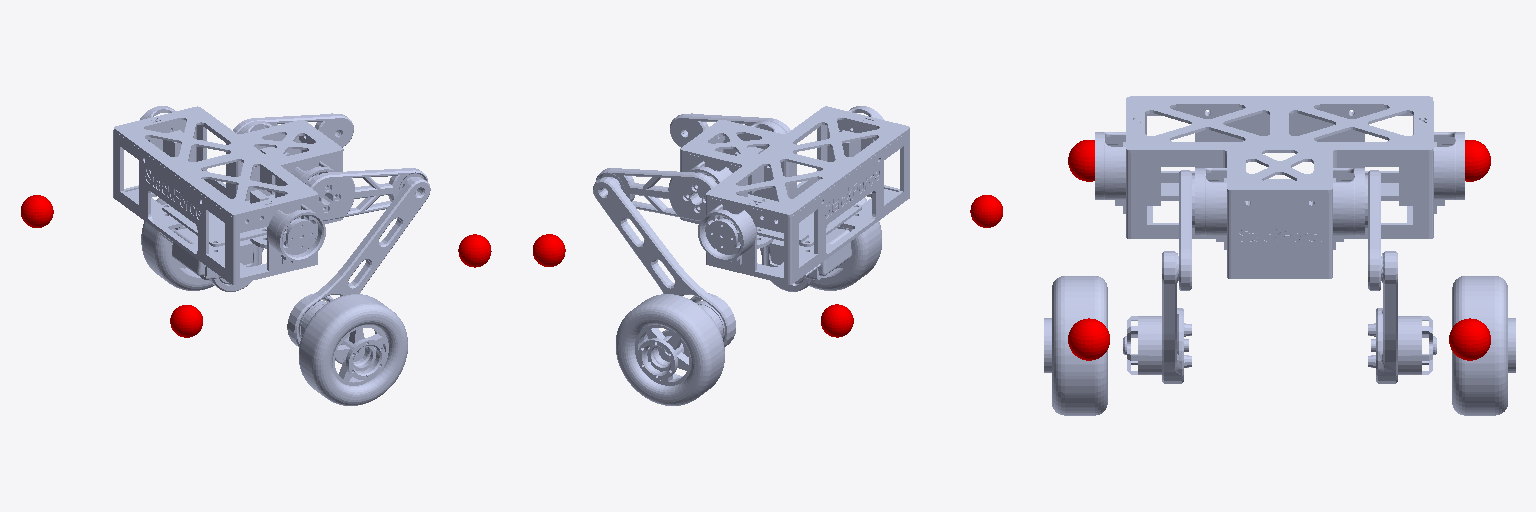
URDF robot description (sf):
<?xml version="1.0" encoding="utf-8"?>
<!-- This URDF was automatically created by SolidWorks to URDF Exporter! Originally created by Stephen Brawner (brawner@gmail.com) 
     Commit Version: 1.6.0-4-g7f85cfe  Build Version: 1.6.7995.38578
     For more information, please see http://wiki.ros.org/sw_urdf_exporter -->
<robot
  name="sf">
  <link
    name="base_link">
    <inertial>
      <origin
        xyz="0.0061304 0.0002476 -0.0093676"
        rpy="0 0 0" />
      <mass
        value="0.2660000" />  # 原版质量0.266
      <inertia
        ixx="0.0006309"
        ixy="0.0000006"
        ixz="-0.0000468"
        iyy="0.0003008"
        iyz="0.0000003"
        izz="0.0007489" />
      <!--<mass
        value="0.2660000" />
      <inertia
        ixx="0.001100"
        ixy="0.0000000"
        ixz="0.0000000"
        iyy="0.001400"
        iyz="0.0000000"
        izz="0.002400" />-->
      <!--<mass
        value="0.7280000" />  
      <inertia
        ixx="0.001727"    
        ixy="0.0000016"   
        ixz="-0.000128"   
        iyy="0.000823"    
        iyz="0.0000008"   
        izz="0.002050" />-->  
    </inertial>
    <visual>
      <origin
        xyz="0.00 0 -0.00"
        rpy="0 0 0" />
      <!--<origin
        xyz="0.01 0 -0.025"
        rpy="0 0 0" />-->
      <geometry>
        <mesh
          filename="../meshes/base_link.STL" />
        <!--<box size="0.24 0.18 0.01" />-->
      </geometry>
      <material
        name="">
        <color
          rgba="0.792156862745098 0.819607843137255 0.933333333333333 1" />
      </material>
    </visual>
    
    <!-- 防倾倒支撑点 - 可视化部分 -->
    <!-- 左前支撑点 -->
    <visual>
      <origin xyz="0.115 0.09 -0.03" rpy="0 0 0" />
      <geometry>
        <sphere radius="0.01"/>
      </geometry>
      <material name="">
        <color rgba="1.0 0.0 0.0 1" />  <!-- 红色，易于识别 -->
      </material>
    </visual>
    
    <!-- 右前支撑点 -->
    <visual>
      <origin xyz="0.115 -0.09 -0.03" rpy="0 0 0" />
      <geometry>
        <sphere radius="0.01"/>
      </geometry>
      <material name="">
        <color rgba="1.0 0.0 0.0 1" />  <!-- 红色，易于识别 -->
      </material>
    </visual>
    
    <!-- 左后支撑点 -->
    <visual>
      <origin xyz="-0.085 0.09 -0.03" rpy="0 0 0" />
      <geometry>
        <sphere radius="0.01"/>
      </geometry>
      <material name="">
        <color rgba="1.0 0.0 0.0 1" />  <!-- 红色，易于识别 -->
      </material>
    </visual>
    
    <!-- 右后支撑点 -->
    <visual>
      <origin xyz="-0.085 -0.09 -0.03" rpy="0 0 0" />
      <geometry>
        <sphere radius="0.01"/>
      </geometry>
      <material name="">
        <color rgba="1.0 0.0 0.0 1" />  <!-- 红色，易于识别 -->
      </material>
    </visual>
    
    <collision>
      <origin
        xyz="0.00 0 -0.00"
        rpy="0 0 0" />
      <!--<origin
        xyz="0.01 0 -0.025"
        rpy="0 0 0" />-->
      <geometry>
        <mesh
          filename="../meshes/base_link.STL" />
        <!--<box size="0.24 0.18 0.01" />-->
      </geometry>
    </collision>
    
    <!-- 防倾倒支撑点 - collision only, 无摩擦球体 -->
    <!-- 左前支撑点 -->
    <collision>
      <origin xyz="0.115 0.09 -0.03" rpy="0 0 0" />
      <geometry>
        <sphere radius="0.01"/>
      </geometry>
      <surface>
        <friction>
          <ode>
            <mu>0.001</mu>
            <mu2>0.001</mu2>
          </ode>
        </friction>
      </surface>
    </collision>
    
    <!-- 右前支撑点 -->
    <collision>
      <origin xyz="0.115 -0.09 -0.03" rpy="0 0 0" />
      <geometry>
        <sphere radius="0.01"/>
      </geometry>
      <surface>
        <friction>
          <ode>
            <mu>0.001</mu>
            <mu2>0.001</mu2>
          </ode>
        </friction>
      </surface>
    </collision>
    
    <!-- 左后支撑点 -->
    <collision>
      <origin xyz="-0.085 0.09 -0.03" rpy="0 0 0" />
      <geometry>
        <sphere radius="0.01"/>
      </geometry>
      <surface>
        <friction>
          <ode>
            <mu>0.001</mu>
            <mu2>0.001</mu2>
          </ode>
        </friction>
      </surface>
    </collision>
    
    <!-- 右后支撑点 -->
    <collision>
      <origin xyz="-0.085 -0.09 -0.03" rpy="0 0 0" />
      <geometry>
        <sphere radius="0.01"/>
      </geometry>
      <surface>
        <friction>
          <ode>
            <mu>0.001</mu>
            <mu2>0.001</mu2>
          </ode>
        </friction>
      </surface>
    </collision>
  </link>
  <link
    name="LT_link">
    <inertial>
      <origin
        xyz="0.0012701 0.0040620 -0.0190086"
        rpy="0 0 0" />
      <mass
        value="0.0080000" />
      <inertia
        ixx="0.0000041"
        ixy="0.0000000"
        ixz="0.0000002"
        iyy="0.0000046"
        iyz="0.0000001"
        izz="0.0000005" />
    </inertial>
    <visual>
      <origin
        xyz="0 0 0"
        rpy="0 0 0" />
      <geometry>
        <mesh
          filename="../meshes/LT_link.STL" />
      </geometry>
      <material
        name="">
        <color
          rgba="0.792156862745098 0.819607843137255 0.933333333333333 1" />
      </material>
    </visual>
    <collision>
      <origin
        xyz="0 0 0"
        rpy="0 0 0" />
      <geometry>
        <mesh
          filename="../meshes/LT_link.STL" />
      </geometry>
    </collision>
  </link>
  <joint
    name="LT_joint"
    type="revolute">
    <origin
      xyz="0.037193 0.04014 0.00555"
      rpy="0 -1.3914 0" />
    <parent
      link="base_link" />
    <child
      link="LT_link" />
    <axis
      xyz="0 -1 0" />
    <limit
      lower="-1.3479"
      upper="0.3363"
      effort="0.5"
      velocity="20" />
    <dynamics
      friction="0.00"
      damping="0.00" />
  </joint>
  <link
    name="LC_link">
    <inertial>
      <origin
        xyz="0.0013809 0.0047027 -0.0690315"
        rpy="0 0 0" />
      <mass
        value="0.0166292" />
      <inertia
        ixx="1.92606315320937E-05"
        ixy="-8.82655659688194E-09"
        ixz="-3.55356649539172E-07"
        iyy="1.99807316204063E-05"
        iyz="4.41228359669666E-07"
        izz="1.55379596081475E-06" />
    </inertial>
    <visual>
      <origin
        xyz="0 0 0"
        rpy="0 0 0" />
      <geometry>
        <mesh
          filename="../meshes/LC_link.STL" />
      </geometry>
      <material
        name="">
        <color
          rgba="0.792156862745098 0.819607843137255 0.933333333333333 1" />
      </material>
    </visual>
    <collision>
      <origin
        xyz="0 0 0"
        rpy="0 0 0" />
      <geometry>
        <mesh
          filename="../meshes/LC_link.STL" />
      </geometry>
    </collision>
  </link>
  <joint
    name="LC_joint"
    type="revolute">
    <origin
      xyz="0.00400624584257155 0.00825 -0.0599599974003271"
      rpy="3.14159265358979 0.970968251102385 3.14159265358979" />
    <parent
      link="LT_link" />
    <child
      link="LC_link" />
    <axis
      xyz="0 -1 0" />
    <limit
      lower="-0.3"
      upper="1.25"
      effort="0.5"
      velocity="20" />
    <dynamics
      friction="0.00"
      damping="0.00" />
  </joint>
  <link
    name="LW_link">
    <inertial>
      <origin
        xyz="0.0000000 0.0083246 0.0000000"
        rpy="0 0 0" />
      <mass
        value="0.0559681585451639" />
      <inertia
        ixx="0.0000121"
        ixy="0.0000000"
        ixz="0.0000000"
        iyy="0.0000209"
        iyz="0.0000000"
        izz="0.0000121" />
    </inertial>
    <visual>
      <origin
        xyz="0 0.015 0"
        rpy="0 0 0" />
      <geometry>
        <mesh
          filename="../meshes/LW_link.STL" />
      </geometry>
      <!--<geometry>
        <cylinder length="0.03" radius="0.03"/>
      </geometry>-->
      <material
        name="">
        <color
          rgba="0.792156862745098 0.819607843137255 0.933333333333333 1" />
      </material>
    </visual>
    <collision>
      <origin
        xyz="0 0.015 0"
        rpy="0 0 0" />
      <geometry>
        <mesh
          filename="../meshes/LW_link.STL" />
      </geometry>
      <!--<geometry>
        <cylinder length="0.03" radius="0.03"/>
      </geometry>-->
    </collision>
  </link>
  <joint
    name="LW_joint"
    type="revolute">
    <origin
      xyz="0.00200000000000076 0.024 -0.0999799979995941"
      rpy="0 -0.779219558190924 0" />
    <parent
      link="LC_link" />
    <child
      link="LW_link" />
    <axis
      xyz="0 1 0" />
    <limit
      upper="1000000"
      lower="-1000000"
      effort="0.1"
      velocity="100" />
  </joint>
  <link
    name="RT_link">
    <inertial>
      <origin
        xyz="0.00127013 -0.0040620 -0.0190086"
        rpy="0 0 0" />
      <mass
        value="0.0080000" />
      <inertia
        ixx="0.0000041"
        ixy="0.0000000"
        ixz="0.0000002"
        iyy="0.0000046"
        iyz="0.0000001"
        izz="0.0000005" />
    </inertial>
    <visual>
      <origin
        xyz="0 0 0"
        rpy="0 0 0" />
      <geometry>
        <mesh
          filename="../meshes/RT_link.STL" />
      </geometry>
      <material
        name="">
        <color
          rgba="0.792156862745098 0.819607843137255 0.933333333333333 1" />
      </material>
    </visual>
    <collision>
      <origin
        xyz="0 0 0"
        rpy="0 0 0" />
      <geometry>
        <mesh
          filename="../meshes/RT_link.STL" />
      </geometry>
    </collision>
  </link>
  <joint
    name="RT_joint"
    type="revolute">
    <origin
      xyz="0.037193 -0.03976 0.00555"
      rpy="0 -1.3914 0" />
    <parent
      link="base_link" />
    <child
      link="RT_link" />
    <axis
      xyz="0 1 0" />
    <limit
      lower="-0.3363"
      upper="1.3479"
      effort="0.5"
      velocity="20" />
    <dynamics
      friction="0.00"
      damping="0.00" />
  </joint>
  <link
    name="RC_link">
    <inertial>
      <origin
        xyz="-0.0013809 -0.0047027 -0.0690315"
        rpy="0 0 0" />
      <mass
        value="0.0166292" />
      <inertia
        ixx="0.0000240"
        ixy="0.0000000"
        ixz="0.0000004"
        iyy="0.0000245"
        iyz="-0.00000006"
        izz="0.0000016" />
    </inertial>
    <visual>
      <origin
        xyz="0 0 0"
        rpy="0 0 0" />
      <geometry>
        <mesh
          filename="../meshes/RC_link.STL" />
      </geometry>
      <material
        name="">
        <color
          rgba="0.792156862745098 0.819607843137255 0.933333333333333 1" />
      </material>
    </visual>
    <collision>
      <origin
        xyz="0 0 0"
        rpy="0 0 0" />
      <geometry>
        <mesh
          filename="../meshes/RC_link.STL" />
      </geometry>
    </collision>
  </link>
  <joint
    name="RC_joint"
    type="revolute">
    <origin
      xyz="0.0040062458425682 -0.00825000000001 -0.0599599974003474"
      rpy="-3.14159265358951 1.01097091824902 -3.14159265358956" />
    <parent
      link="RT_link" />
    <child
      link="RC_link" />
    <axis
      xyz="0 1 0" />
    <limit
      lower="-1.25"
      upper="0.3"
      effort="0.5"
      velocity="20" />
    <dynamics
      friction="0.00"
      damping="0.00" />
  </joint>
  <link
    name="RW_link">
    <inertial>
      <origin
        xyz="0.0000000 -0.0083246 0.0000000"
        rpy="1.5708 0 0" />
      <mass
        value="0.0559681585451639" />
      <inertia
        ixx="0.0000121"
        ixy="0.0000000"
        ixz="0.0000000"
        iyy="0.0000209"
        iyz="0.0000000"
        izz="0.0000121" />
    </inertial>
    <visual>
      <origin
        xyz="0 -0.015 0"
        rpy="0 0 0" />
      <geometry>
        <mesh
          filename="../meshes/RW_link.STL" />
      </geometry>
      <!--<geometry>
        <cylinder length="0.03" radius="0.03"/>
      </geometry>-->
      <material
        name="">
        <color
          rgba="0.792156862745098 0.819607843137255 0.933333333333333 1" />
      </material>
    </visual>
    <collision>
      <origin
        xyz="0 -0.015 0"
        rpy="0 0 0" />
      <geometry>
        <mesh
          filename="../meshes/RW_link.STL" />
      </geometry>
      <!--<geometry>
        <cylinder length="0.03" radius="0.03"/>
      </geometry>-->
    </collision>
  </link>
  <joint
    name="RW_joint"
    type="revolute">
    <origin
      xyz="-0.00199999999999527 -0.0240000000000082 -0.0999799979995988"
      rpy="0 -0.739216891044192 0" />
    <parent
      link="RC_link" />
    <child
      link="RW_link" />
    <axis
      xyz="0 -1 0" />
    <limit
      upper="1000000"
      lower="-1000000"
      effort="0.1"
      velocity="100" />
  </joint>

</robot>

--- Render facts (derived) ---
Views: 3 orthographic renders of the robot side by side, from view 1: azimuth 30°, elevation 25°; view 2: azimuth 150°, elevation 25°; view 3: azimuth 270°, elevation 25°.
Model sf with 7 links and 6 joints (6 revolute), rooted at base_link, posed every joint at zero.
Links seen in each view (by area): view 1: base_link, RW_link, RC_link, RT_link, LW_link, LT_link; view 2: base_link, LW_link, LC_link, LT_link, RW_link, RT_link; view 3: base_link, LW_link, RW_link, LC_link, RC_link, LT_link, RT_link.
Boxes of the visible links, x1,y1,x2,y2 form: base_link: (21,106,491,337); RW_link: (299,294,407,405); RC_link: (287,177,430,346); RT_link: (306,168,427,220); LW_link: (141,198,213,290); LT_link: (233,114,353,147); base_link: (533,106,1002,337); LW_link: (616,294,724,405); LC_link: (593,177,735,346); LT_link: (595,168,716,220); RW_link: (809,198,881,290); RT_link: (670,114,790,147); base_link: (1068,96,1490,360); LW_link: (1452,276,1515,415); RW_link: (1044,276,1107,415); LC_link: (1368,251,1436,383); RC_link: (1123,251,1191,383); LT_link: (1365,170,1380,290); RT_link: (1179,170,1194,290).
Bounding box of the posed robot: 0.22 × 0.2226 × 0.13 m (x, y, z).
7 mesh visuals loaded from 7 distinct referenced files (7 binary STL).
